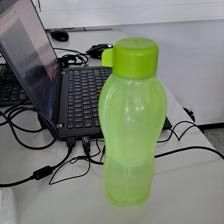bottle: (97, 34, 168, 206)
